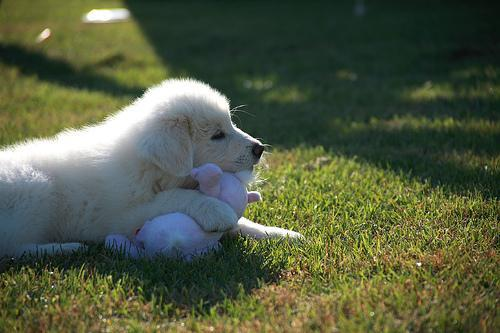Great_Pyrenees: (0, 77, 304, 260)
